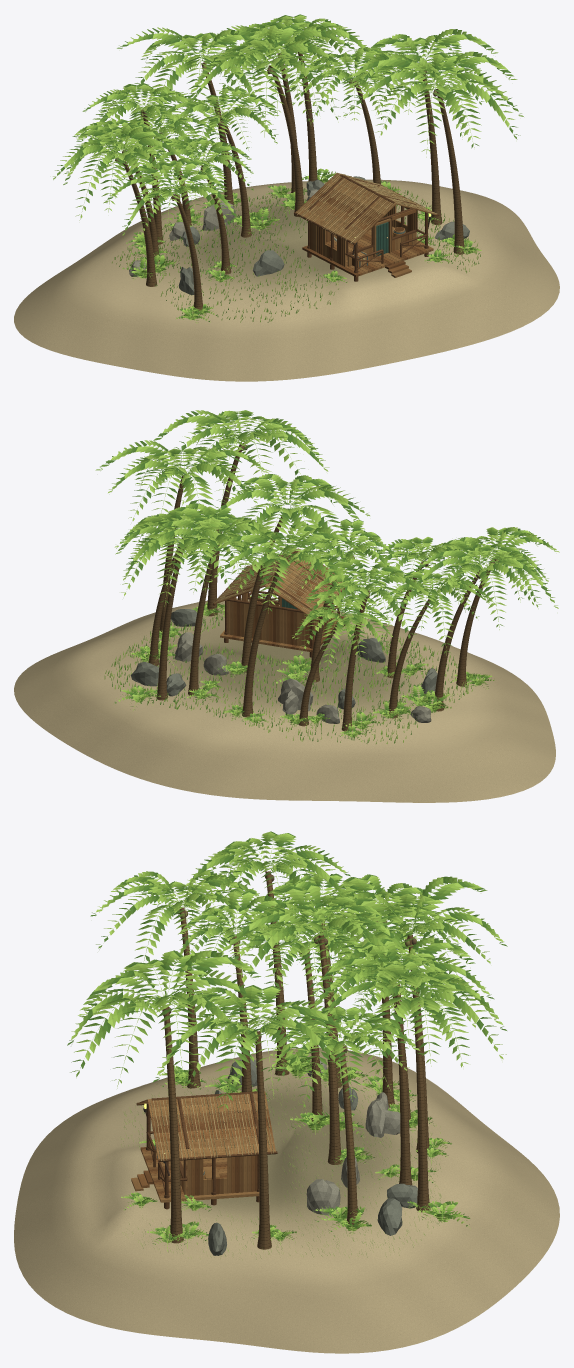
File: palmwood-cove.glb
3 renders of one model, top to bottom at view 1: azimuth 30°, elevation 25°; view 2: azimuth 150°, elevation 25°; view 3: azimuth 270°, elevation 25°, orthographic. The views are drawn at different scales.
Visible parts, largest first — view 1: Palmwood Cove — tropical island and shelter; view 2: Palmwood Cove — tropical island and shelter; view 3: Palmwood Cove — tropical island and shelter.
Part boxes in pixels (left/top/right/bottom): Palmwood Cove — tropical island and shelter: left=14, top=14, right=559, bottom=381; Palmwood Cove — tropical island and shelter: left=14, top=410, right=559, bottom=802; Palmwood Cove — tropical island and shelter: left=14, top=831, right=559, bottom=1353.
Bounding box in the file's own units: 41.04 × 18.52 × 30.97.
Materials: 31 (18 with a texture image).
